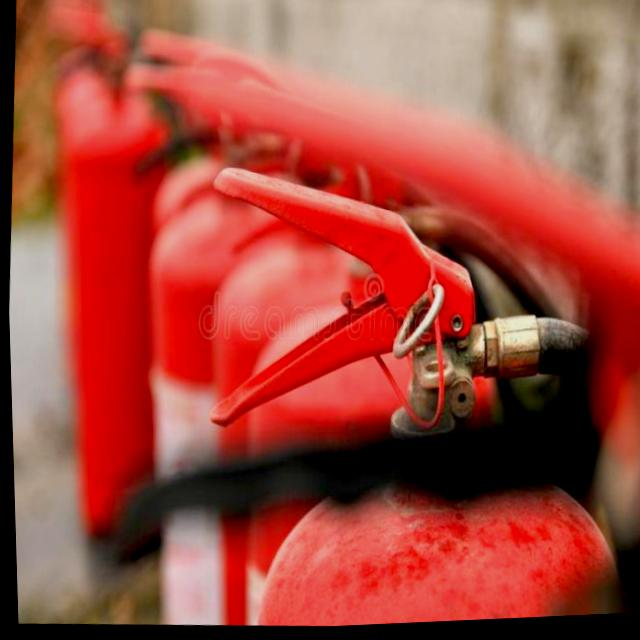FireExtinguisher: (182, 142, 640, 634)
